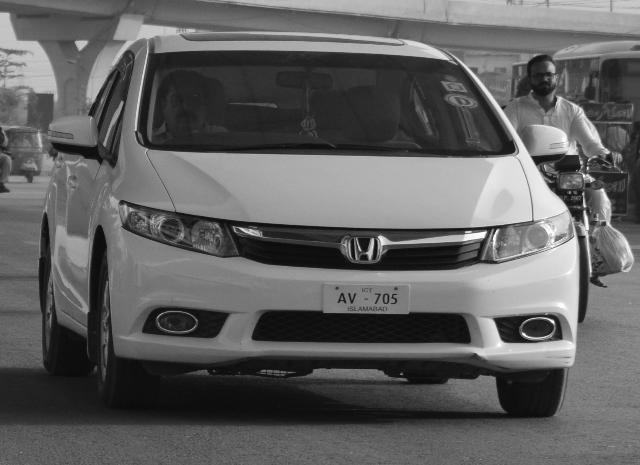Number: (334, 288, 402, 306)
